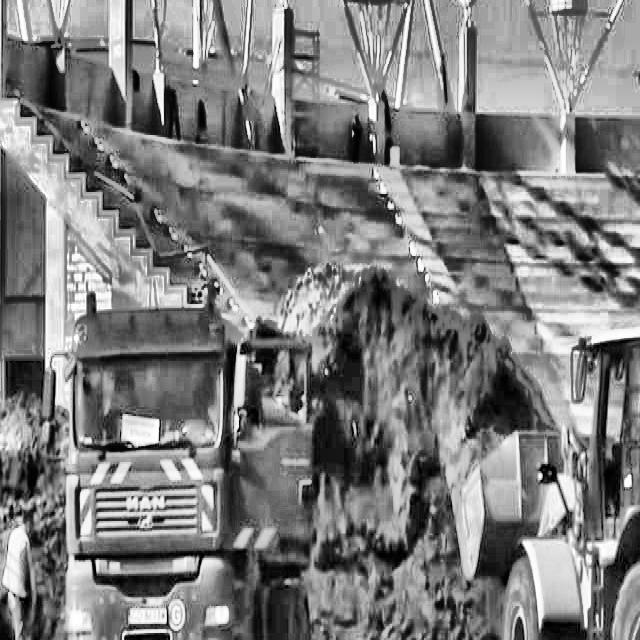buldozerpayloadergrader: (448, 316, 640, 640)
dump_truck: (37, 281, 322, 640)
